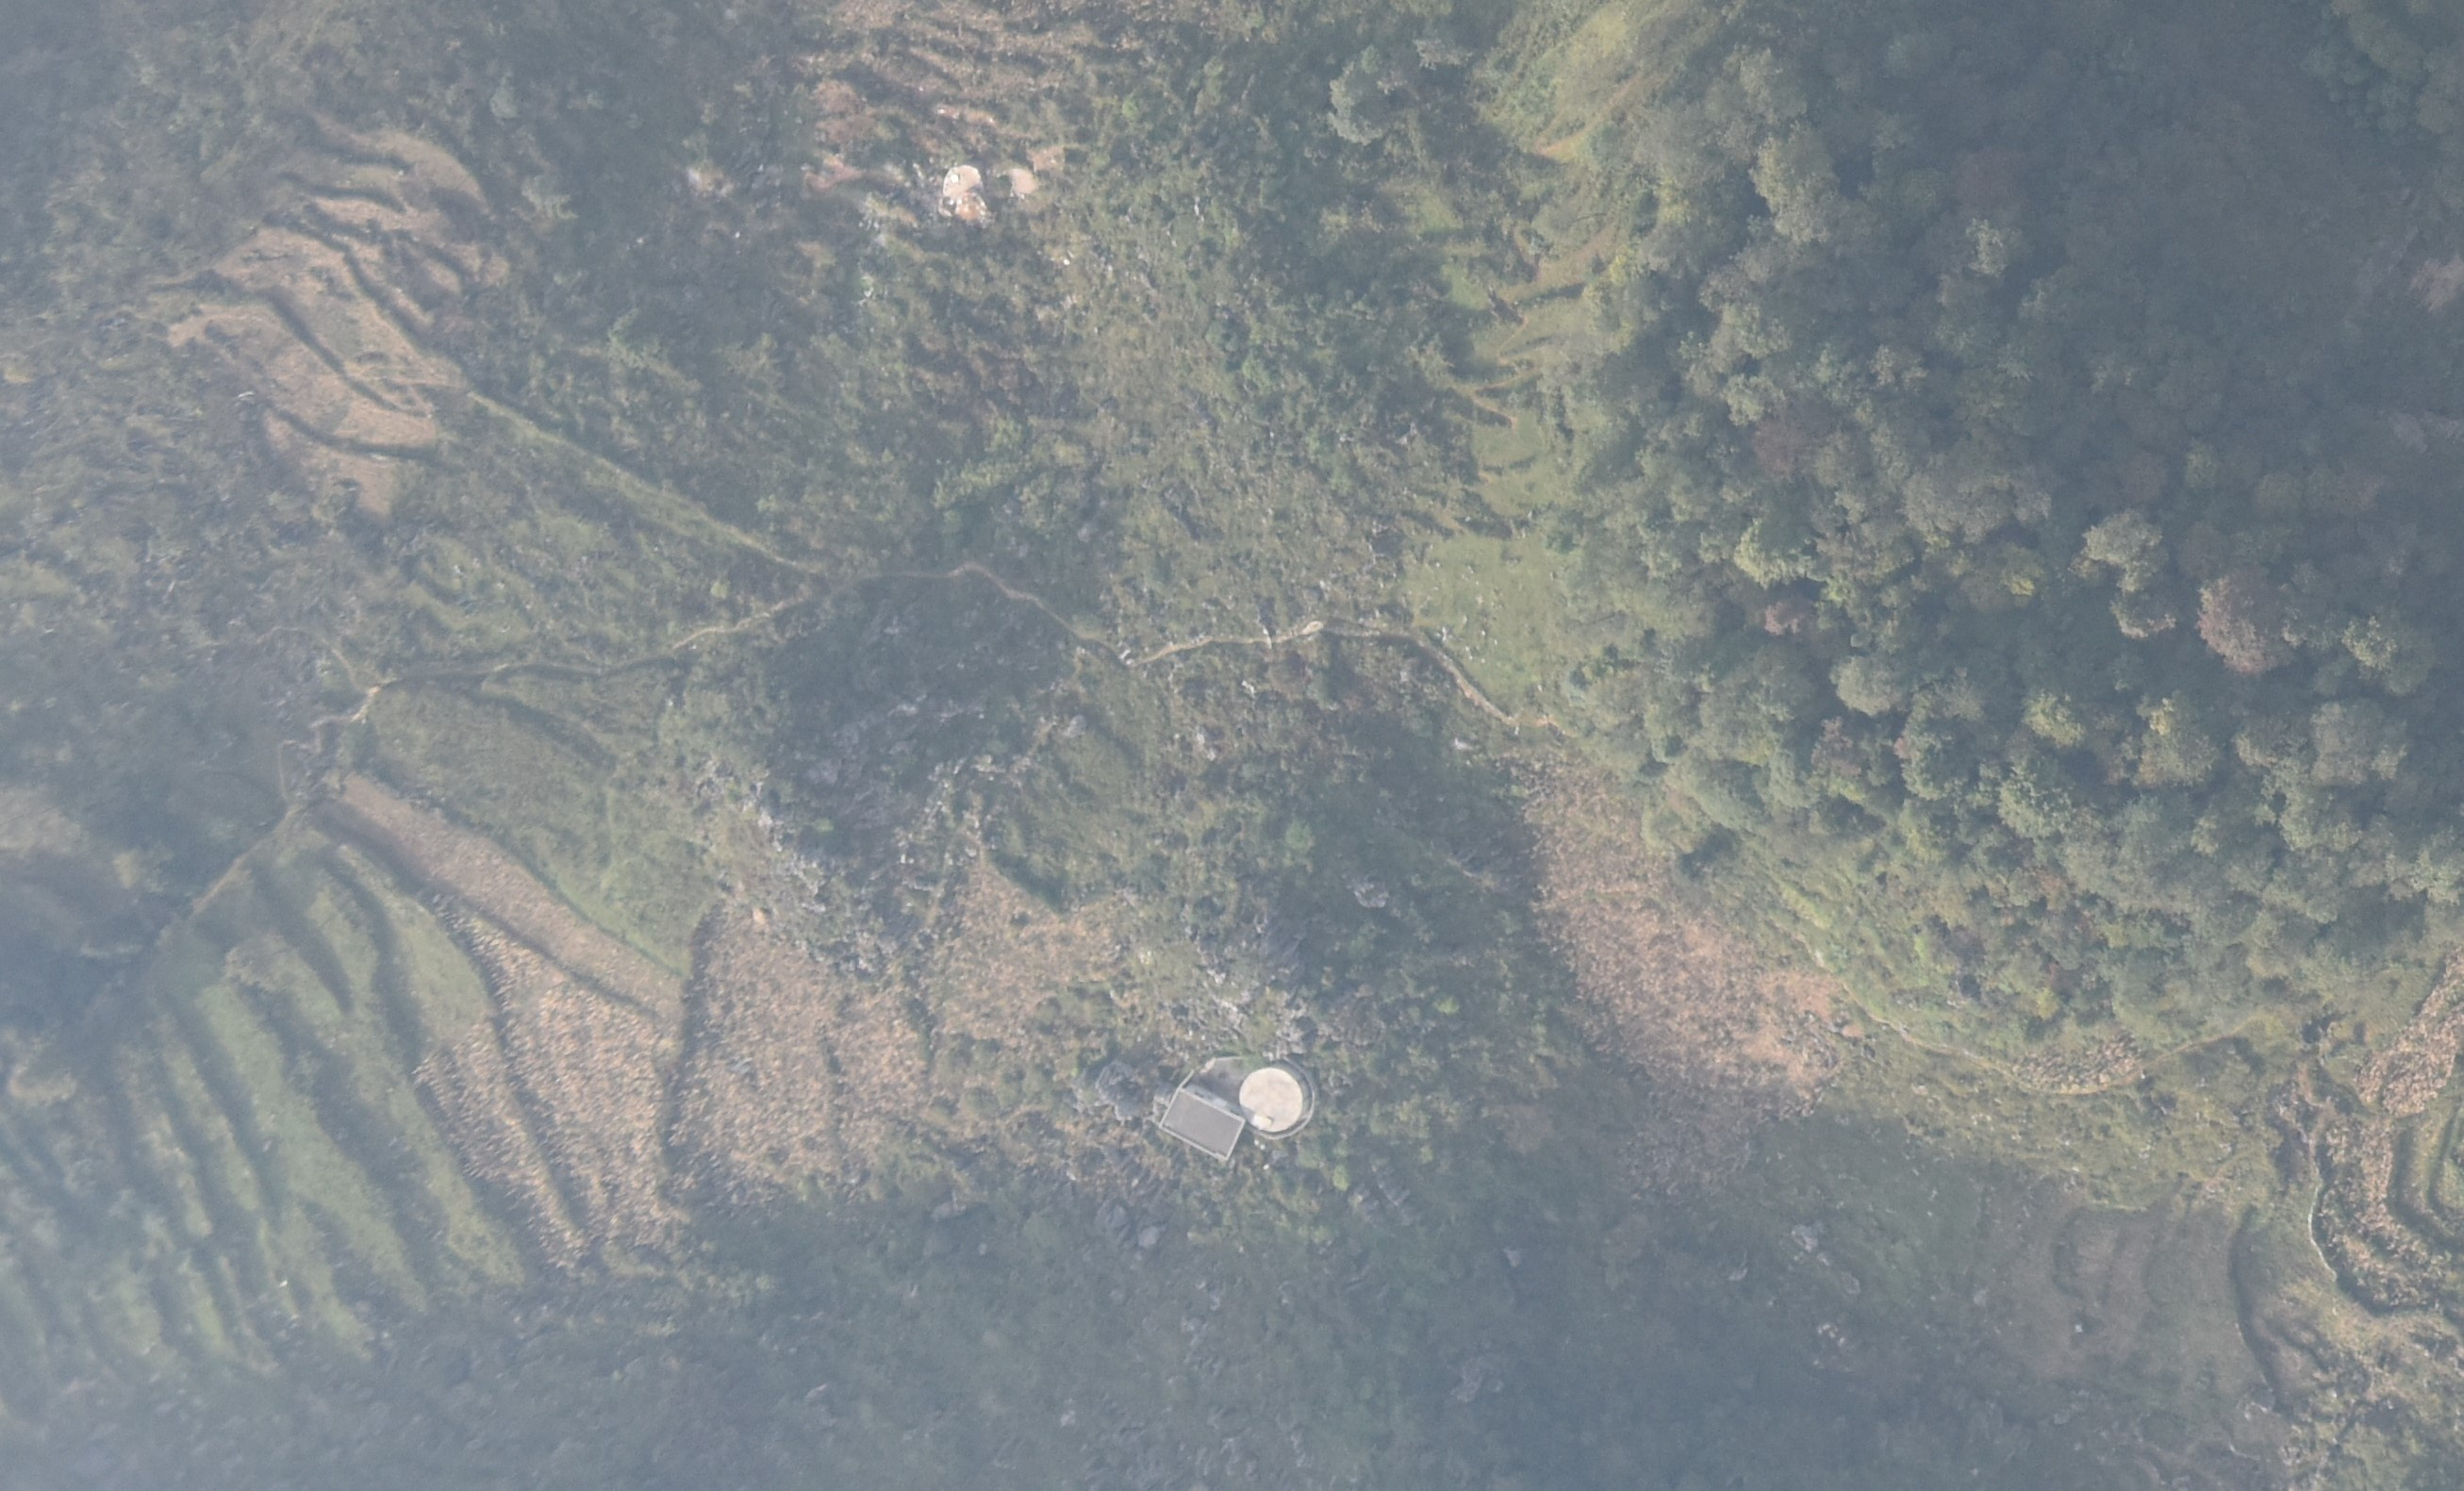building: (1162, 1084, 1243, 1157)
well: (1237, 1057, 1316, 1140)
